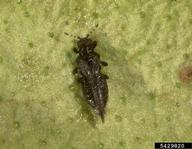Thrips: (63, 21, 118, 128)
